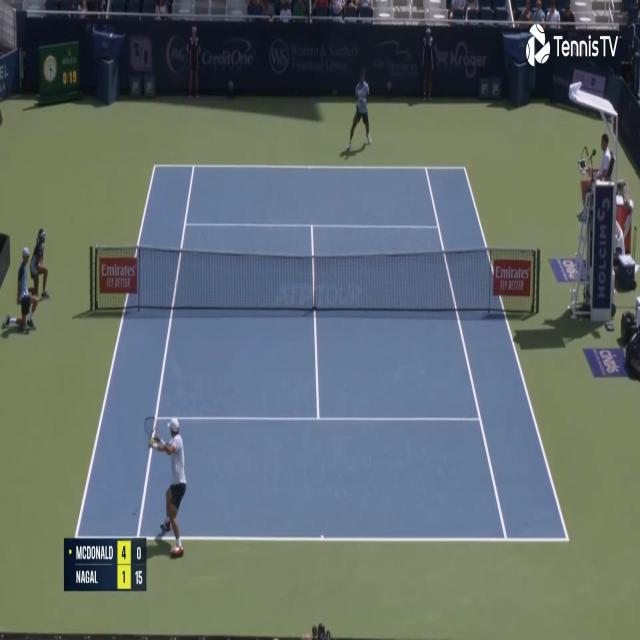tennis-player: (147, 414, 190, 560), (346, 64, 374, 153)
